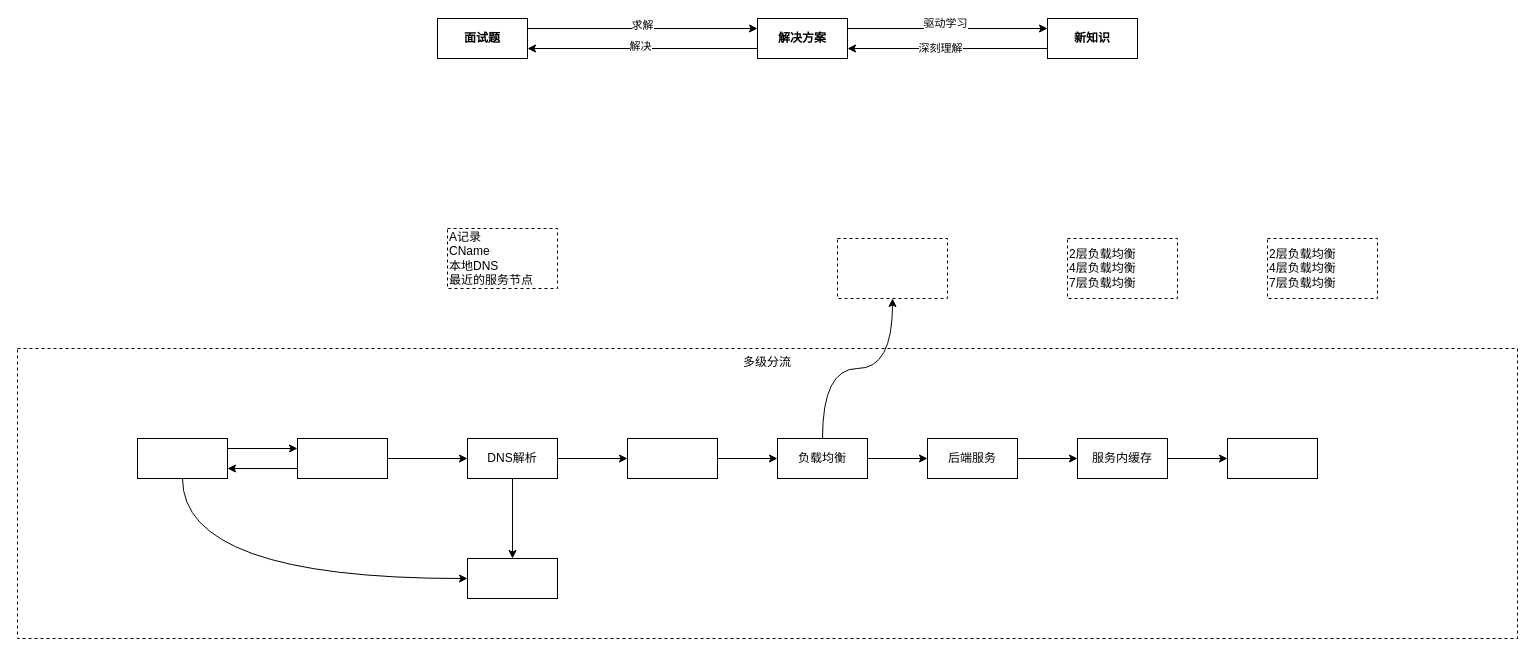
Image size: 1535x656. Some labels were removed from this diagram. Here are the shapes that lost their labels. From the top down, the box of each, then its label:
(836, 238, 948, 298): 数据链路层负载均衡 网络层负载均衡 应用层负载均衡
(136, 438, 228, 478): 客户端
(296, 438, 388, 478): 客户端缓存
(626, 438, 718, 478): 传输链路
(1226, 438, 1318, 478): 分布式缓存
(466, 558, 558, 598): CDN
